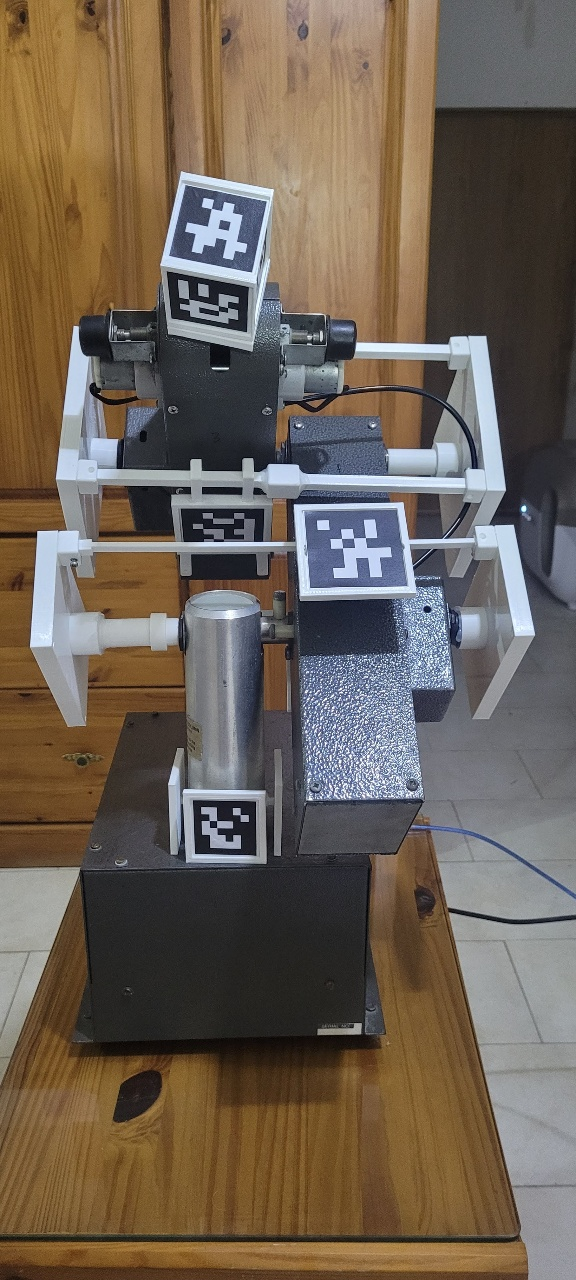Robot: (29, 167, 537, 869)
